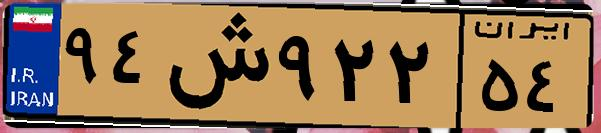2: (385, 28, 445, 110), (330, 28, 385, 110)
4: (525, 38, 570, 115), (110, 28, 158, 98)
5: (475, 38, 525, 113)
9: (270, 28, 330, 110), (57, 26, 110, 100)
ش: (158, 12, 270, 120)
